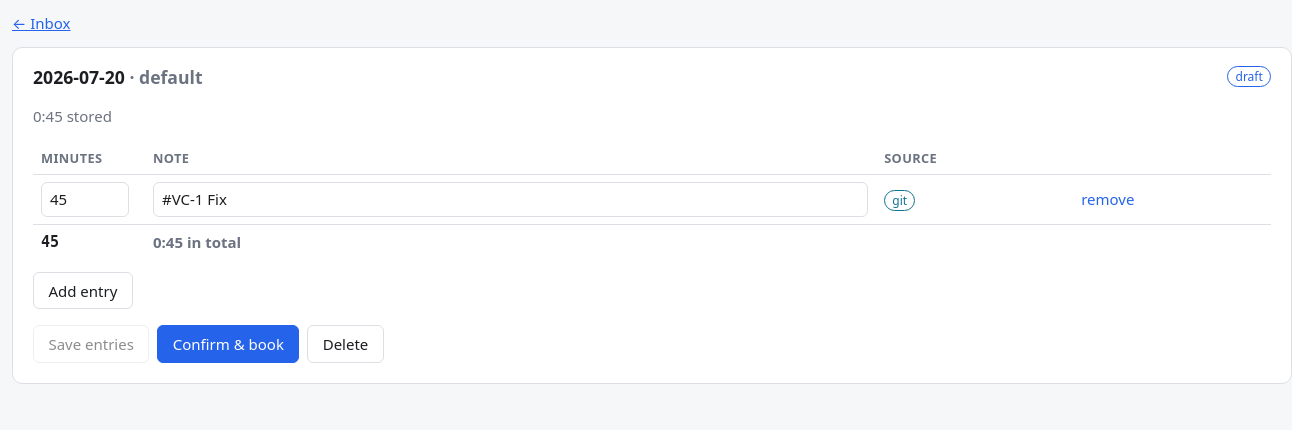
it: ProposalDetail › blocks confirming while there are unsaved changes
Type "!" into the field.
click(511, 200); type("!")  # box [153, 182, 868, 218]
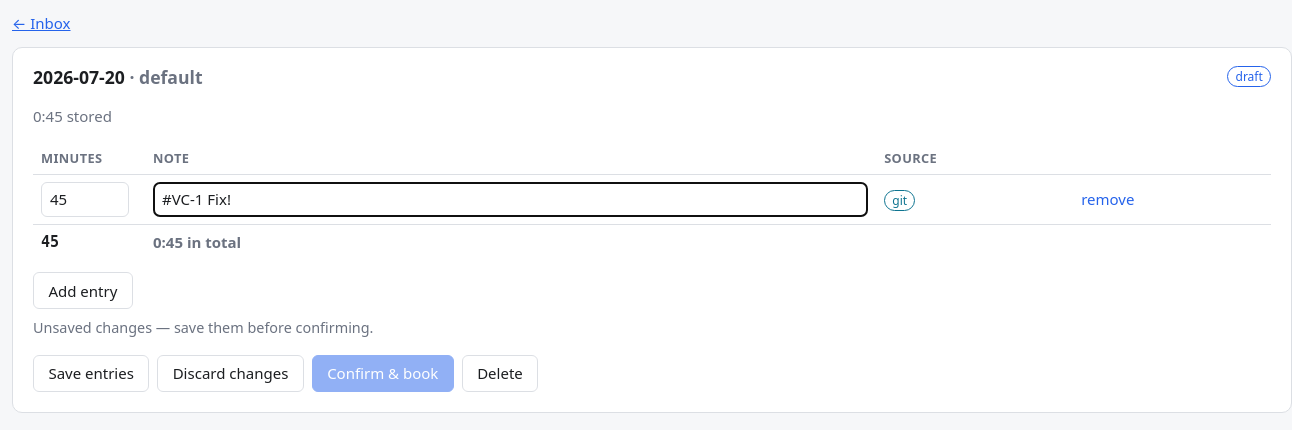
Check: the button "Confirm & book" is disabled, box [312, 355, 454, 392]
Check: the button "Save entries" is enabled, box [33, 355, 149, 392]
Check: the text "Unsaved changes — save them before confirming." is shown, box [33, 318, 374, 337]
